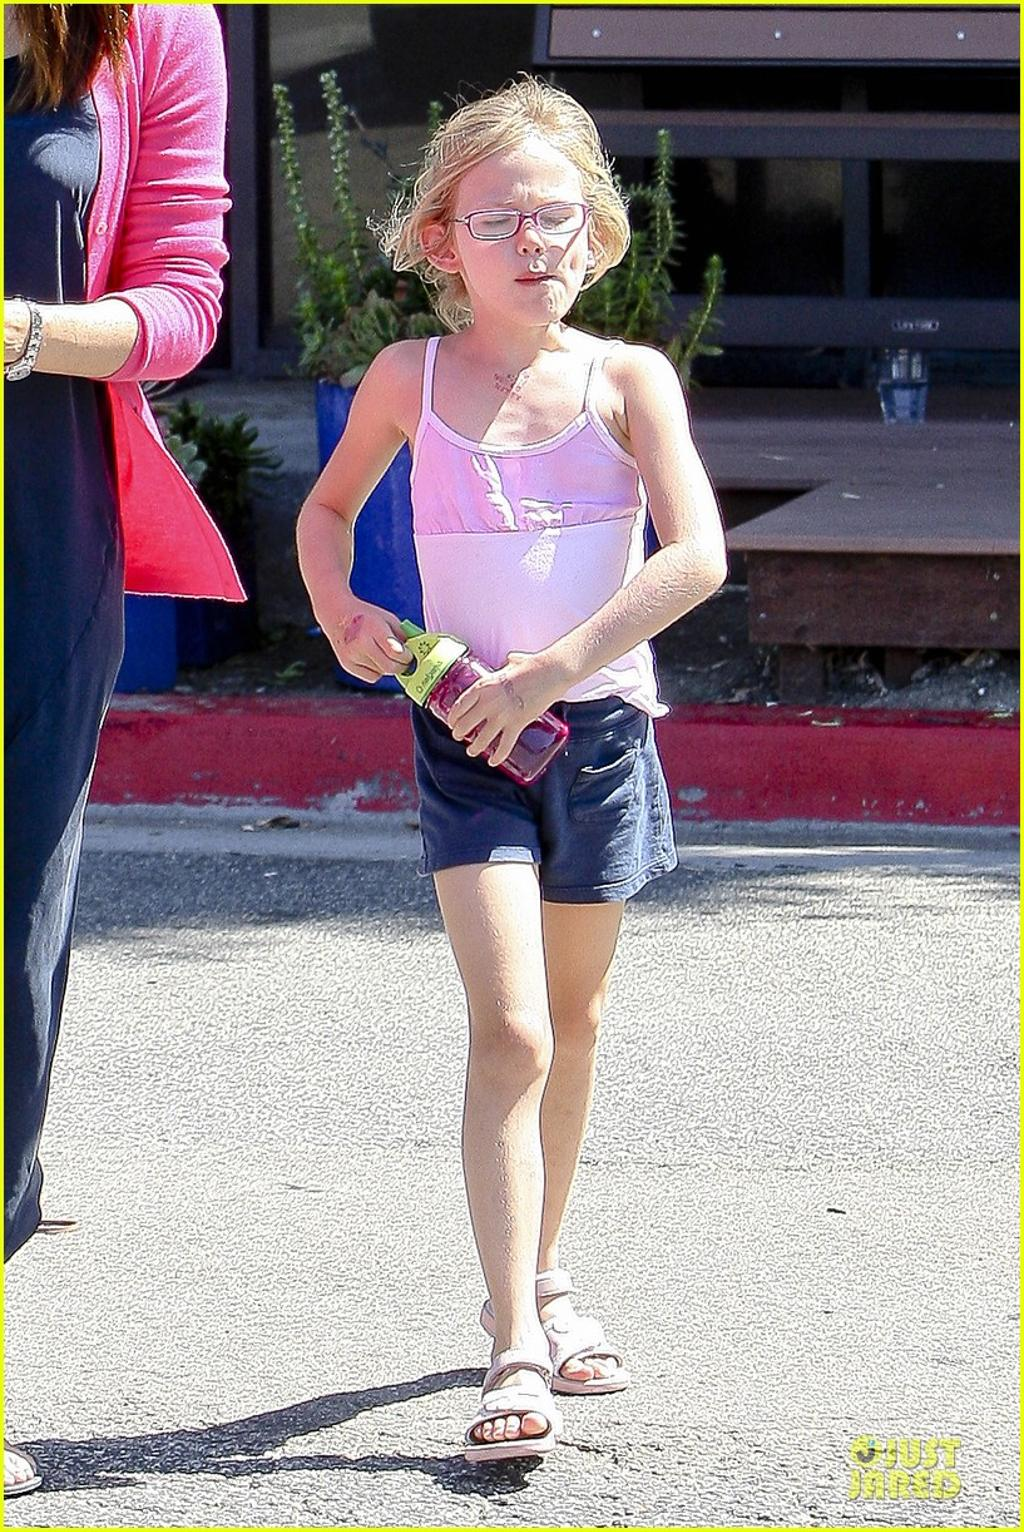face: (452, 147, 587, 333)
